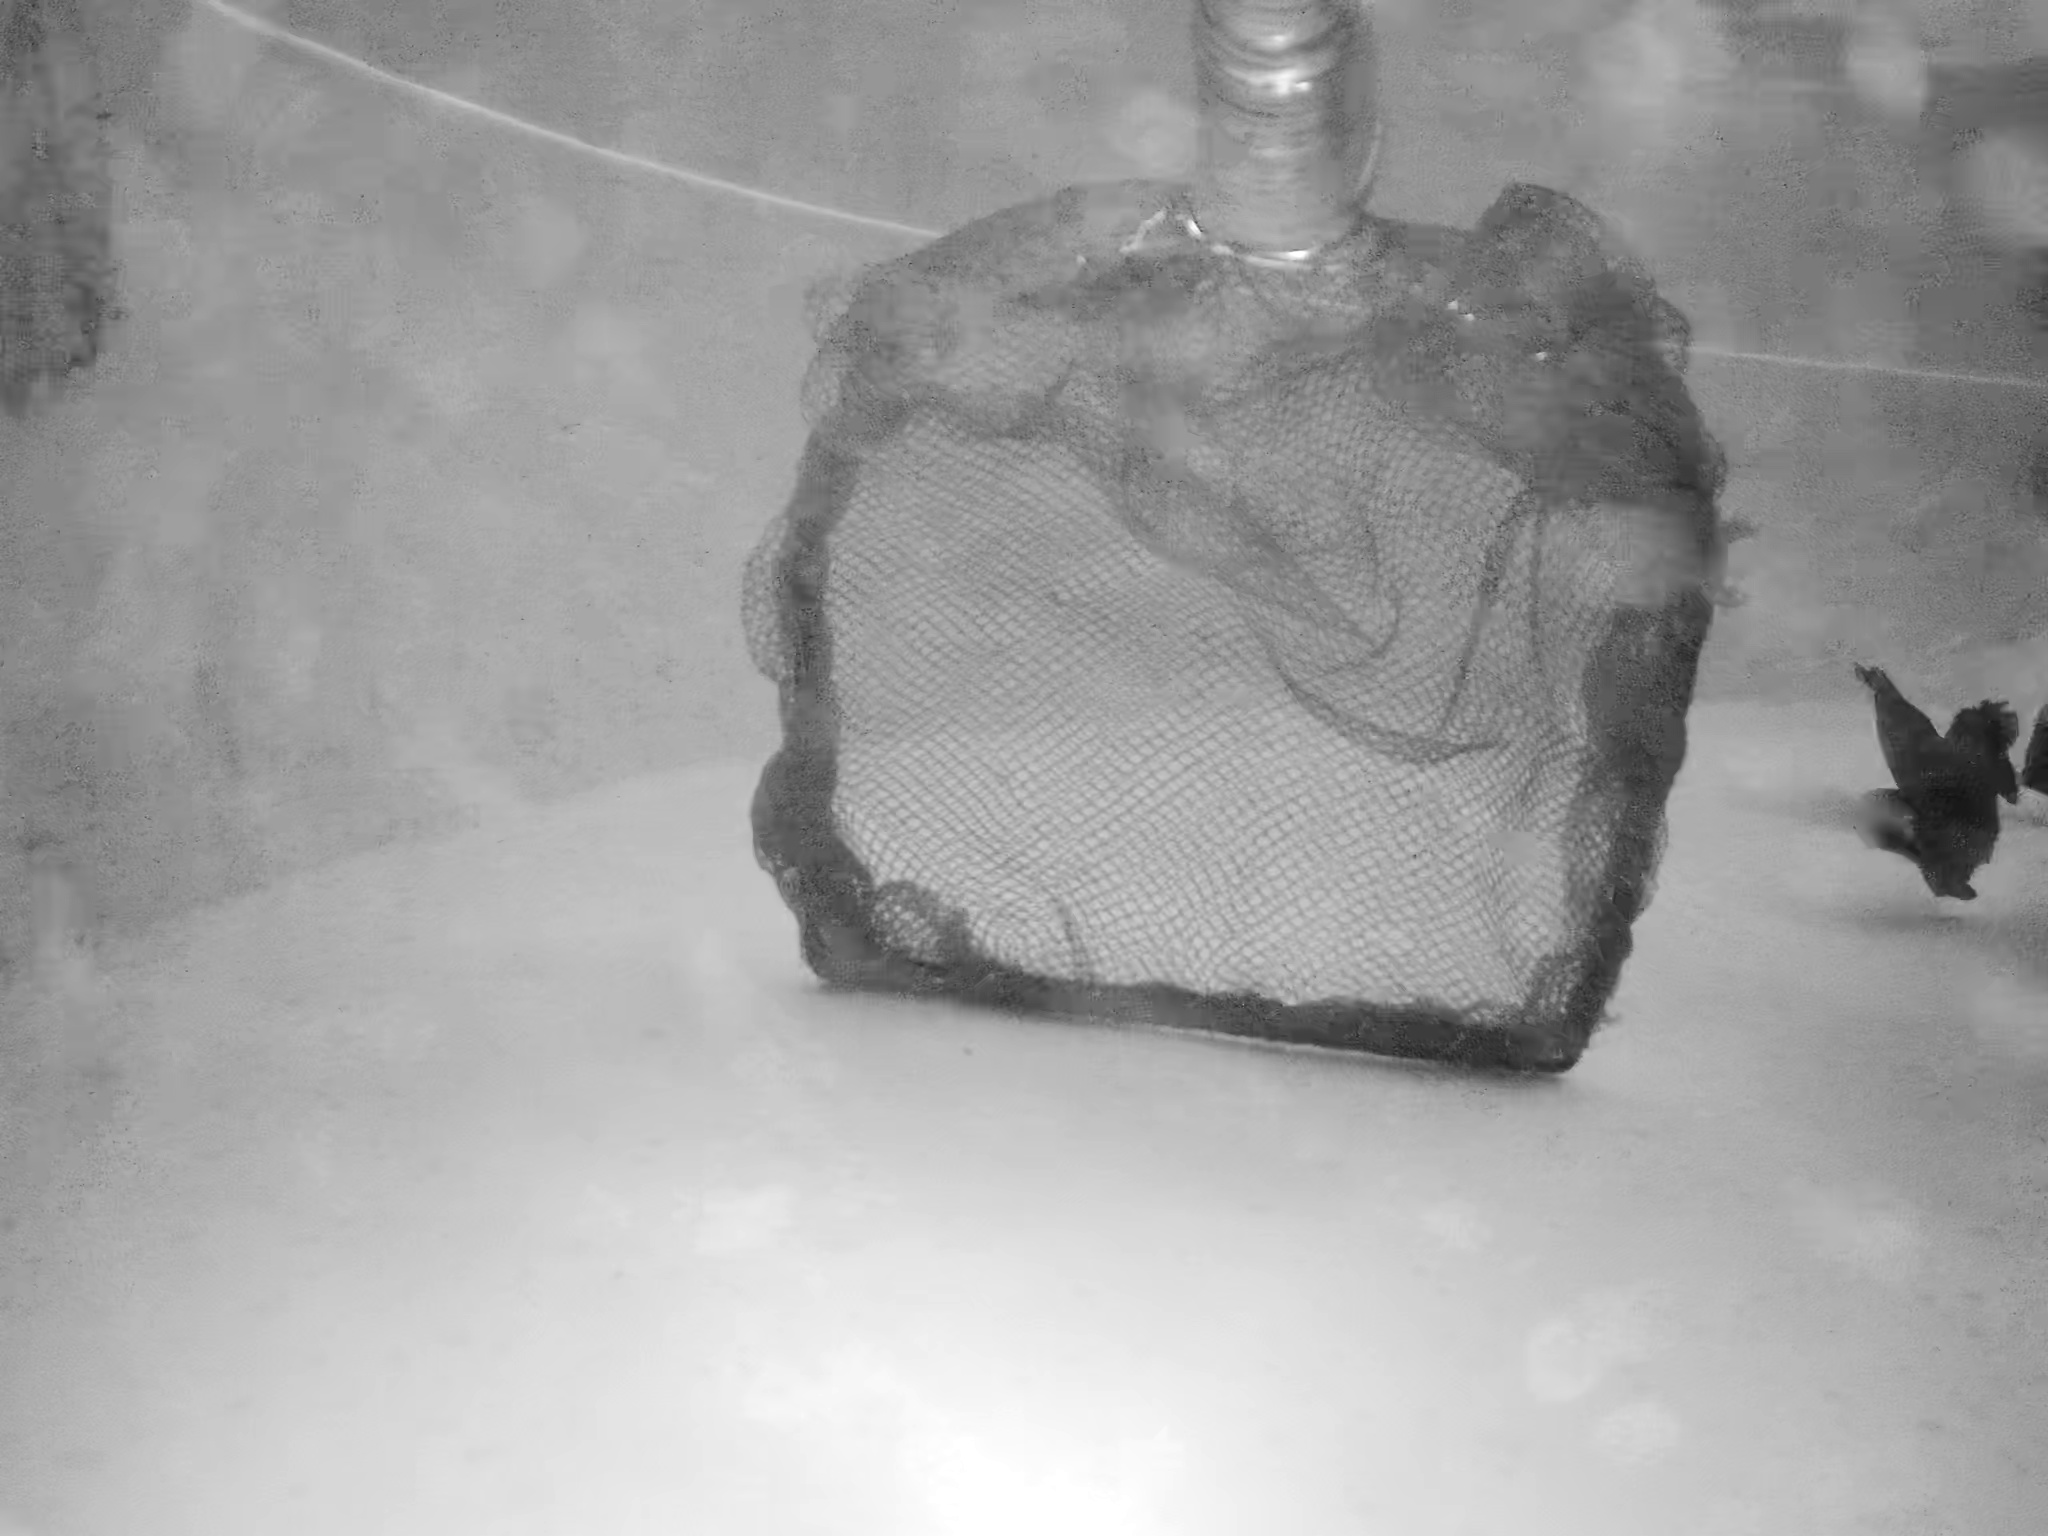fish: (1837, 678, 2013, 881), (1956, 660, 2029, 815), (2014, 715, 2048, 802)
